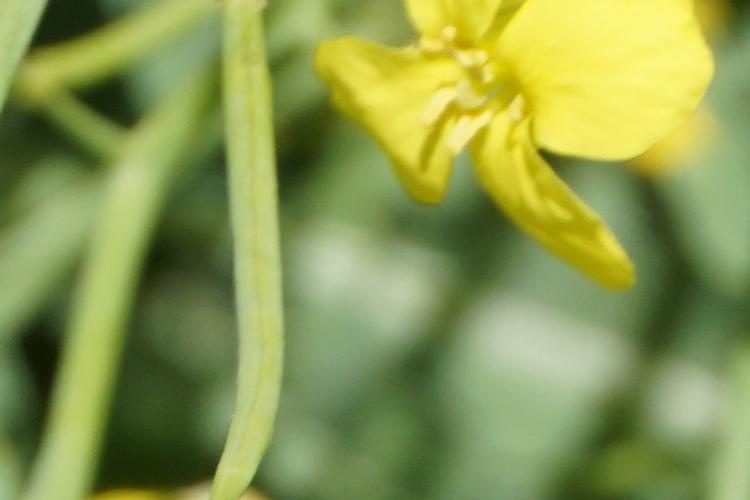yellow: (324, 4, 710, 284)
